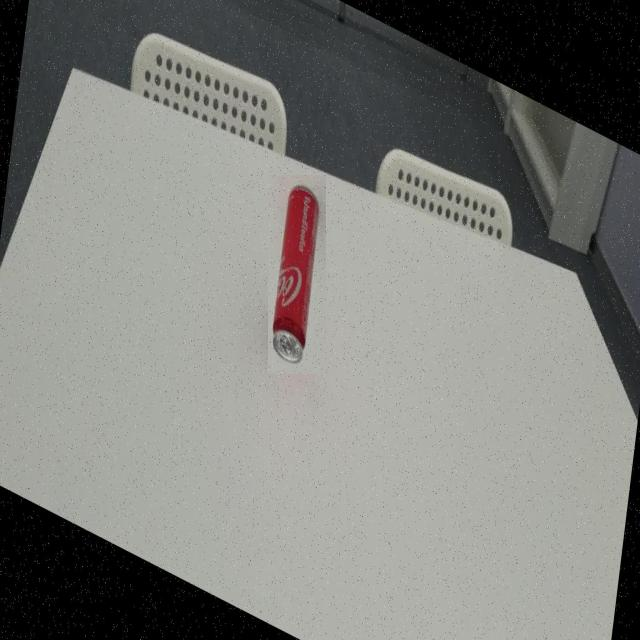coca-cola: (268, 175, 326, 374)
